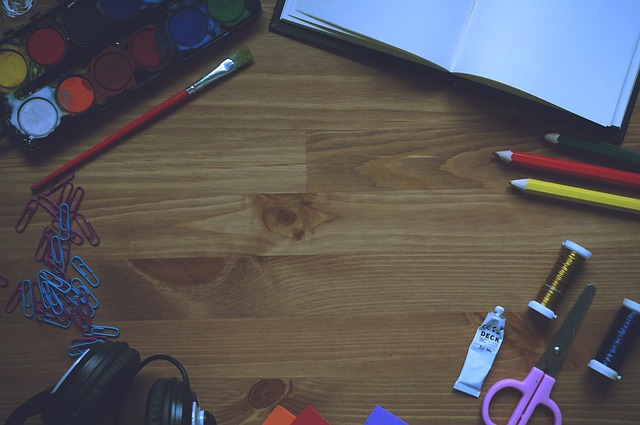headphones: (5, 342, 216, 425)
